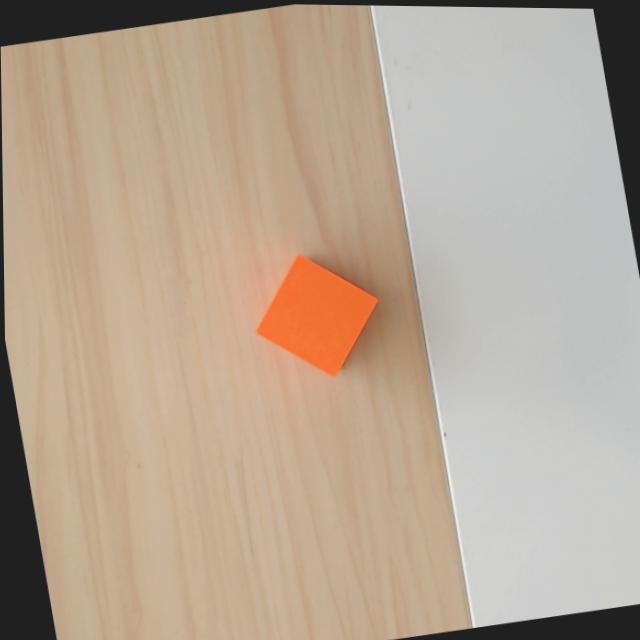Kubus-Jingga-505050: (253, 254, 378, 378)
